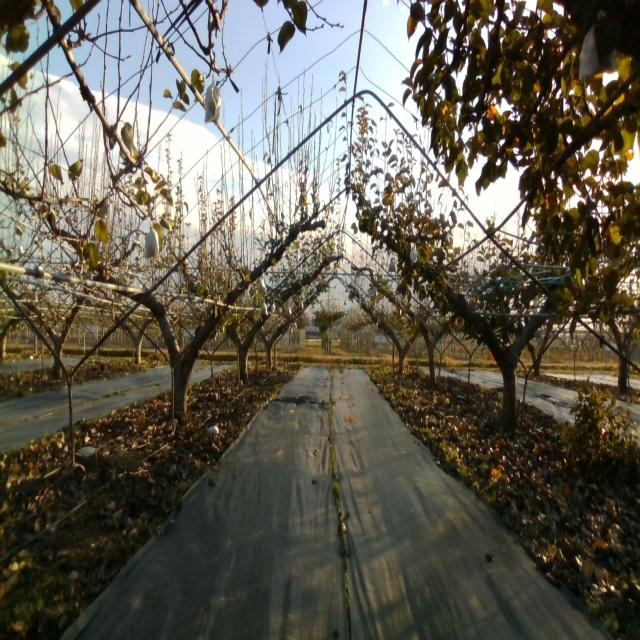pearbags: (204, 73, 221, 126), (143, 219, 161, 262)
